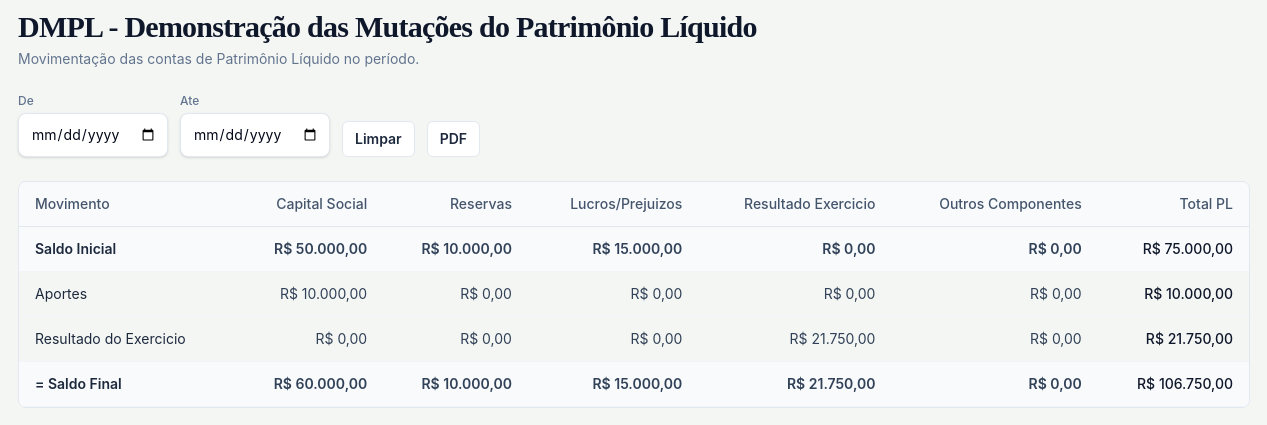
DmplPage › clear filters button resets date inputs
The width and height of the screenshot is (1267, 425).
Type "2026-01-01" into the 1st date field.
click(93, 135); type("2026-01-01")  # box [18, 113, 168, 157]
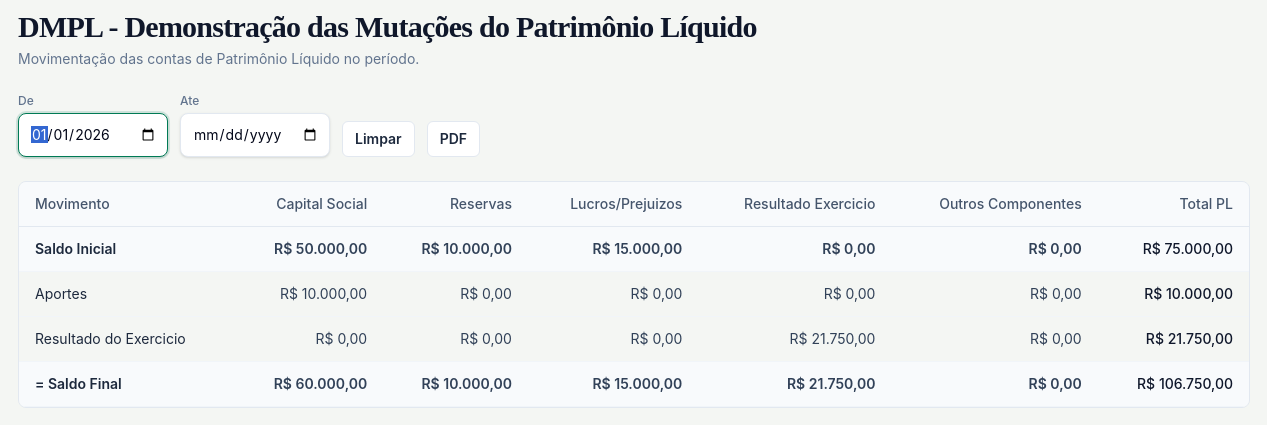
Click the button "Limpar".
click(378, 139)  # box [342, 121, 415, 157]
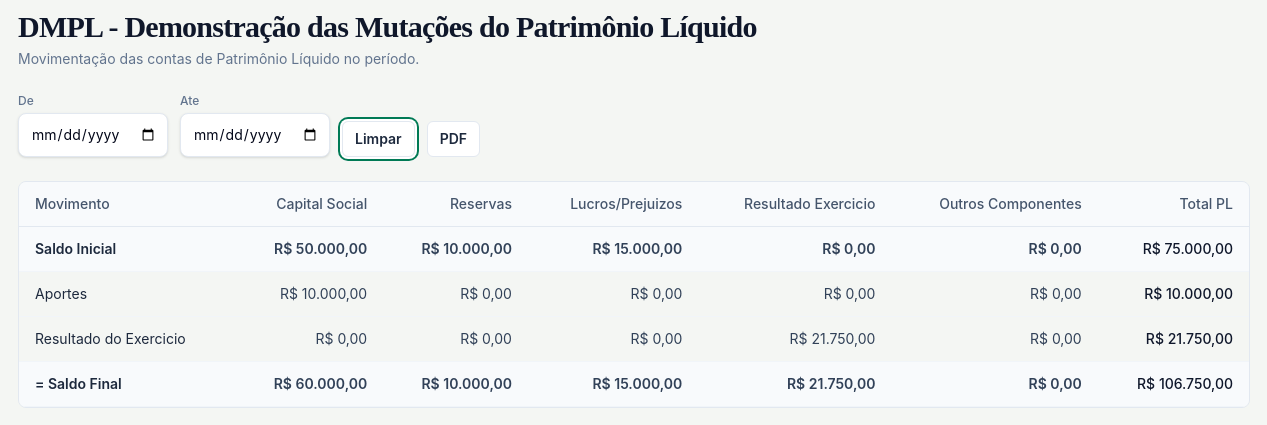
Now the 1st date field is empty, box [18, 113, 168, 157]
